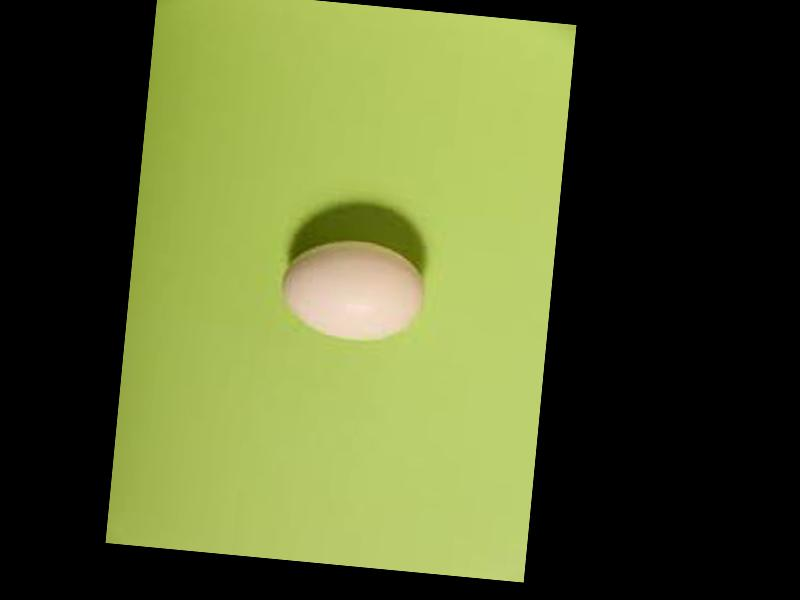Eggs: (275, 234, 428, 343)
